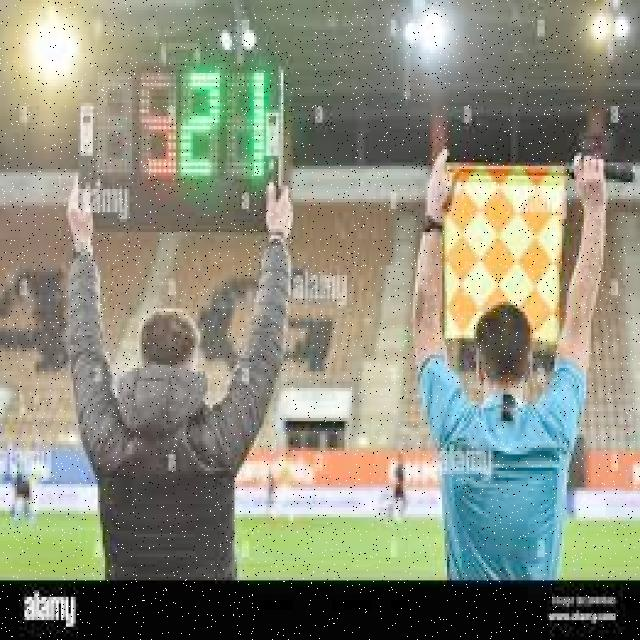substitution: (72, 54, 301, 241)
